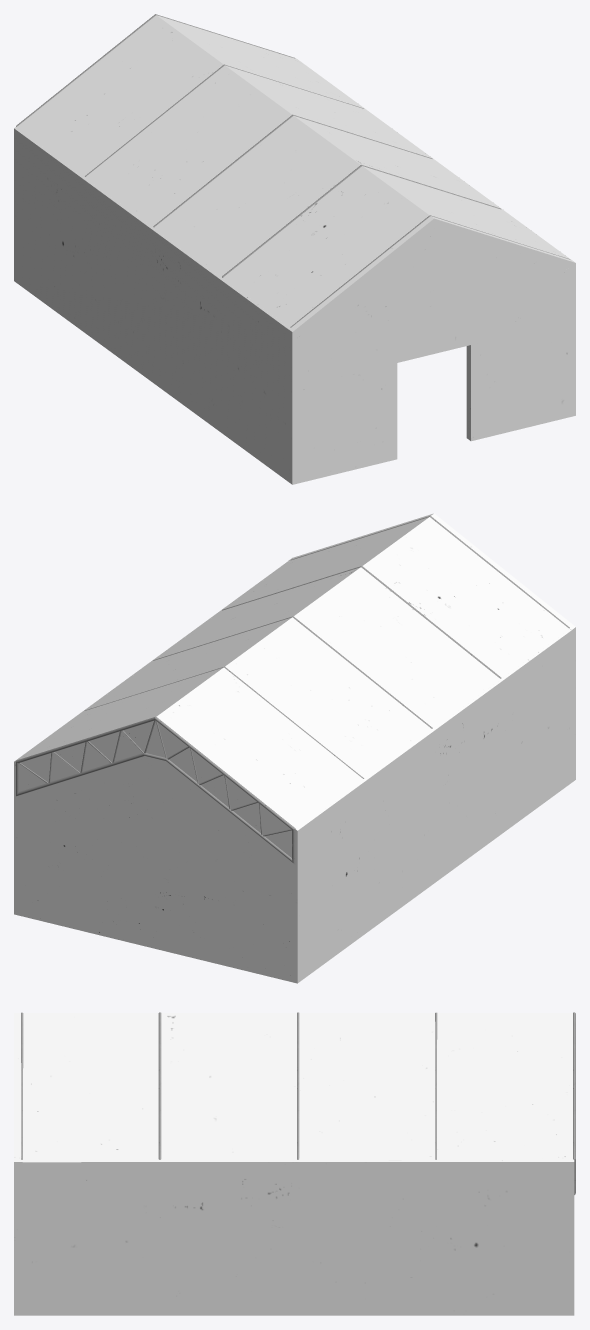
The model's file is gallery.glb.
3 renders of one model, top to bottom at view 1: azimuth 30°, elevation 25°; view 2: azimuth 150°, elevation 25°; view 3: azimuth 270°, elevation 25°, orthographic.
Visible parts, largest first — view 1: gallery.002; view 2: gallery.002; view 3: gallery.002.
Part boxes in pixels (x1,y1,x2,y2): gallery.002: (14,14,575,484); gallery.002: (14,513,575,983); gallery.002: (14,1012,575,1315).
Bounding box in the file's own units: 7.7 × 6.05 × 13.14.
Materials: 25 (21 with a texture image).
